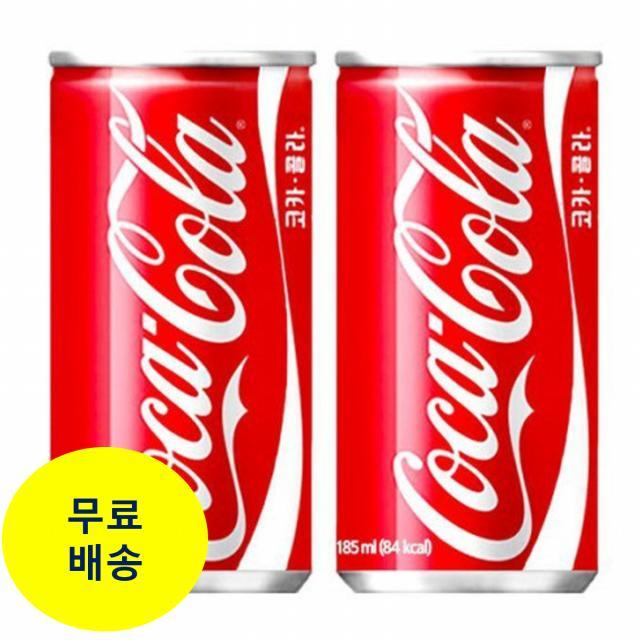coca-cola: (334, 43, 606, 603), (47, 44, 319, 600)
